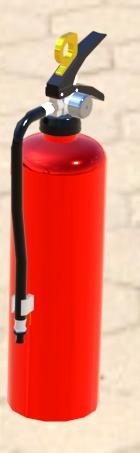fire_extinguisher: (0, 1, 140, 453)
